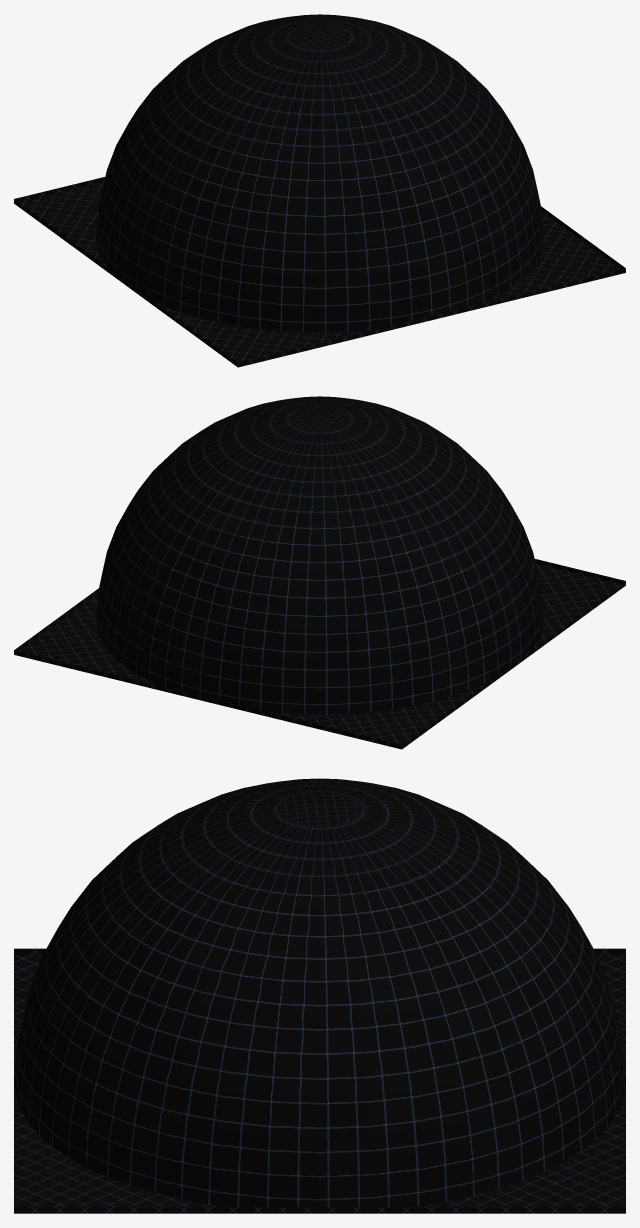
The model's file is Menu Environment.fbx.
3 renders of one model, top to bottom at view 1: azimuth 30°, elevation 25°; view 2: azimuth 150°, elevation 25°; view 3: azimuth 270°, elevation 25°, orthographic. The views are drawn at different scales.
Parts seen in each view (by area): view 1: Sphere, Grid; view 2: Sphere, Grid; view 3: Sphere, Grid.
Boxes of the visible parts, x1=… form: Sphere: x1=96, y1=14, x2=543, y2=332; Grid: x1=14, y1=177, x2=625, y2=367; Sphere: x1=96, y1=396, x2=543, y2=714; Grid: x1=14, y1=559, x2=625, y2=749; Sphere: x1=14, y1=778, x2=625, y2=1207; Grid: x1=14, y1=948, x2=625, y2=1213.
Size of the model in its own units: 1000 by 500 by 1000.
